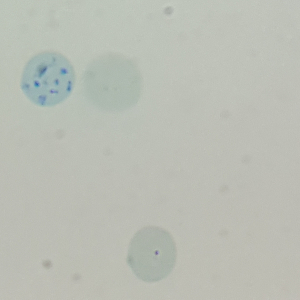aggregate reticulocyte: (19, 50, 77, 109)
erythrocyte: (81, 52, 143, 114), (125, 224, 179, 284)
